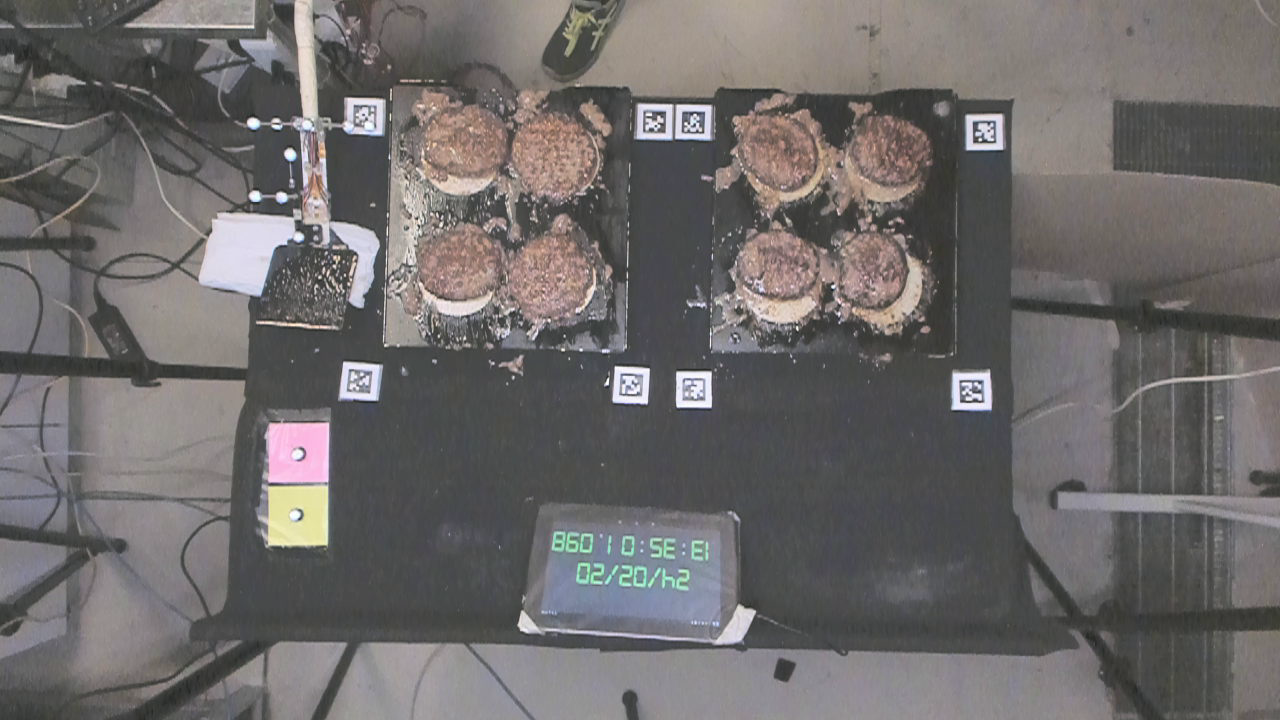hamburger: (733, 97, 820, 189), (735, 224, 824, 307), (508, 233, 591, 320), (833, 223, 910, 315), (411, 222, 503, 298), (424, 100, 508, 183), (512, 114, 594, 199), (846, 110, 934, 189)
marker: (261, 419, 333, 484)
